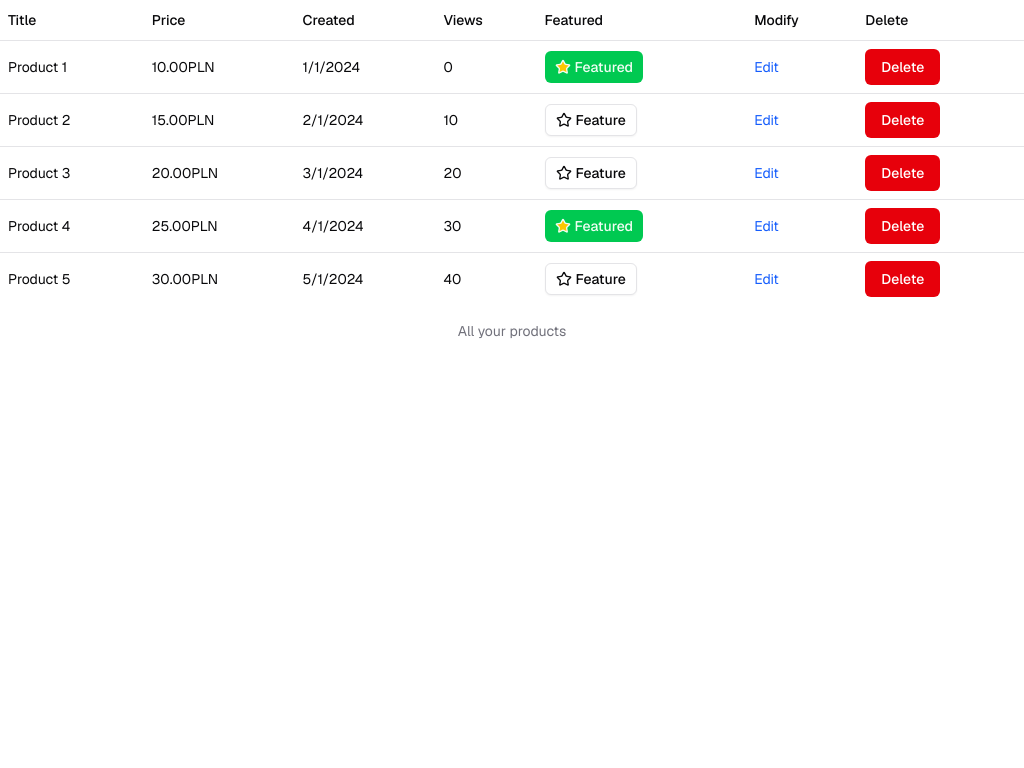
Scenario: UserProductsTable › opens feature dialog when feature button is clicked
// Find a non-featured product button
What coordinates should you click on to do the following:
click the button "Feature" in the row of "Product 2"
I would click on:
 (591, 120)
Its box is [545,104,637,136].
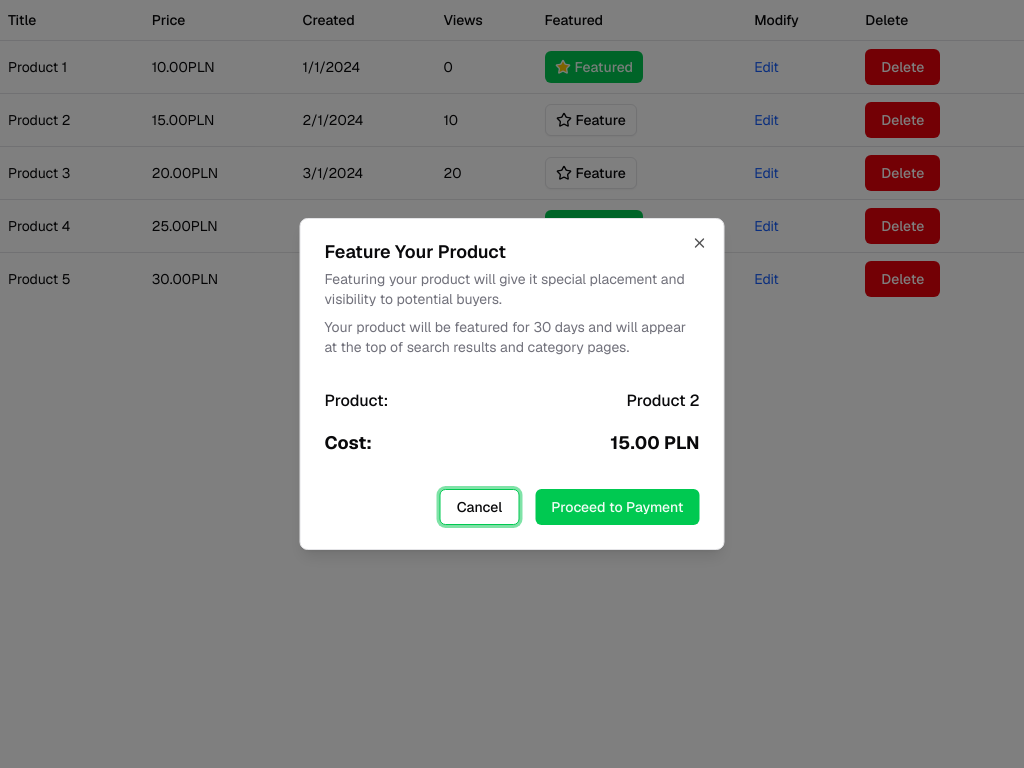
Now the heading "Feature Your Product" is shown, box [324,240,506,263]
Now the text "Featuring your product will give it special placement and visibility to potential buyers." is shown, box [324,270,685,308]
